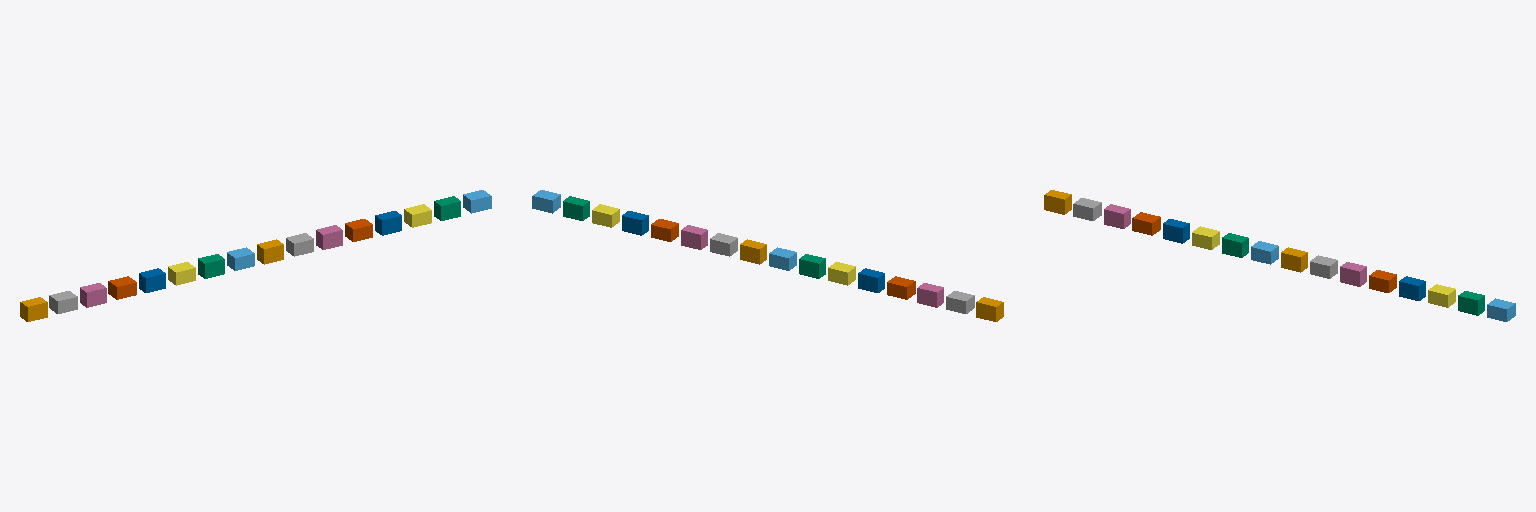
URDF robot description (snake_v210623):
<?xml version="1.0"?>

<robot name="snake_v210623">

    <link name="base_link">
    </link>

    <joint name="bl_joint" type="fixed">
        <parent link="base_link"/>
        <child link="head"/>
    </joint>

    <link name="head">
        <inertial>
            <mass value="0.07"/>
            <inertia ixx="11.5E-3" ixy="0.0E-3" ixz="0.0E-3" iyy="17.4E-3" iyz="0.0E-3" izz="19.4E-3"/>
        </inertial>
        <visual>
            <origin xyz="0.0 0.0 0.0" rpy="0.0 0.0 0.0"/>
            <geometry>
                <box size="0.0465 0.034 0.0285"/>
            </geometry>
        </visual>

        <collision>
            <origin xyz="0.0 0.0 0.0" rpy="0.0 0.0 0.0"/>
            <geometry>
                <box size="0.0465 0.034 0.0285"/>
            </geometry>
        </collision>
    </link> 

    <joint name="joint1" type="revolute">
        <parent link="head"/>
        <child link="body1"/>
        <origin xyz="-0.012 0.0 0.0" rpy="0.0 0.0 0.0"/>
        <axis xyz="0 1 0"/>
        <limit lower="-1.57075" upper="1.57075" effort="0.0" velocity="0.0"/>
    </joint>

    <link name="body1">
        <inertial>
            <origin xyz="-0.0565 0.0 0.0" rpy="0.0 0.0 0.0"/>
            <mass value="0.07"/>
            <inertia ixx="11.5E-3" ixy="0.0E-3" ixz="0.0E-3" iyy="17.4E-3" iyz="0.0E-3" izz="19.4E-3"/>
        </inertial>
        <visual>
            <origin xyz="-0.0565 0.0 0.0" rpy="0.0 0.0 0.0"/>
            <geometry>
                <box size="0.0465 0.0285 0.034"/>
            </geometry>
        </visual>

        <collision>
            <origin xyz="-0.0565 0.0 0.0" rpy="0.0 0.0 0.0"/>
            <geometry>
                <box size="0.0465 0.0285 0.034"/>
            </geometry>
        </collision>
    </link> 

    <joint name="joint2" type="revolute">
        <parent link="body1"/>
        <child link="body2"/>
        <origin xyz="-0.0685 0.0 0.0" rpy="0.0 0.0 0.0"/>
        <axis xyz="0 0 1"/>
        <limit lower="-1.57075" upper="1.57075" effort="0.0" velocity="0.0"/>
    </joint>

    <link name="body2">
        <inertial>
            <origin xyz="-0.0565 0.0 0.0" rpy="0.0 0.0 0.0"/>
            <mass value="0.07"/>
            <inertia ixx="11.5E-3" ixy="0.0E-3" ixz="0.0E-3" iyy="17.4E-3" iyz="0.0E-3" izz="19.4E-3"/>
        </inertial>
        <visual>
            <origin xyz="-0.0565 0.0 0.0" rpy="0.0 0.0 0.0"/>
            <geometry>
                <box size="0.0465 0.034 0.0285"/>
            </geometry>
        </visual>

        <collision>
            <origin xyz="-0.0565 0.0 0.0" rpy="0.0 0.0 0.0"/>
            <geometry>
                <box size="0.0465 0.034 0.0285"/>
            </geometry>
        </collision>
    </link> 

    <joint name="joint3" type="revolute">
        <parent link="body2"/>
        <child link="body3"/>
        <origin xyz="-0.0685 0.0 0.0" rpy="0.0 0.0 0.0"/>
        <axis xyz="0 1 0"/>
        <limit lower="-1.57075" upper="1.57075" effort="0.0" velocity="0.0"/>
    </joint>

    <link name="body3">
        <inertial>
            <origin xyz="-0.0565 0.0 0.0" rpy="0.0 0.0 0.0"/>
            <mass value="0.07"/>
            <inertia ixx="11.5E-3" ixy="0.0E-3" ixz="0.0E-3" iyy="17.4E-3" iyz="0.0E-3" izz="19.4E-3"/>
        </inertial>
        <visual>
            <origin xyz="-0.0565 0.0 0.0" rpy="0.0 0.0 0.0"/>
            <geometry>
                <box size="0.0465 0.0285 0.034"/>
            </geometry>
        </visual>

        <collision>
            <origin xyz="-0.0565 0.0 0.0" rpy="0.0 0.0 0.0"/>
            <geometry>
                <box size="0.0465 0.0285 0.034"/>
            </geometry>
        </collision>
    </link> 

    <joint name="joint4" type="revolute">
        <parent link="body3"/>
        <child link="body4"/>
        <origin xyz="-0.0685 0.0 0.0" rpy="0.0 0.0 0.0"/>
        <axis xyz="0 0 1"/>
        <limit lower="-1.57075" upper="1.57075" effort="0.0" velocity="0.0"/>
    </joint>

    <link name="body4">
        <inertial>
            <origin xyz="-0.0565 0.0 0.0" rpy="0.0 0.0 0.0"/>
            <mass value="0.07"/>
            <inertia ixx="11.5E-3" ixy="0.0E-3" ixz="0.0E-3" iyy="17.4E-3" iyz="0.0E-3" izz="19.4E-3"/>
        </inertial>
        <visual>
            <origin xyz="-0.0565 0.0 0.0" rpy="0.0 0.0 0.0"/>
            <geometry>
                <box size="0.0465 0.034 0.0285"/>
            </geometry>
        </visual>

        <collision>
            <origin xyz="-0.0565 0.0 0.0" rpy="0.0 0.0 0.0"/>
            <geometry>
                <box size="0.0465 0.034 0.0285"/>
            </geometry>
        </collision>
    </link> 

    <joint name="joint5" type="revolute">
        <parent link="body4"/>
        <child link="body5"/>
        <origin xyz="-0.0685 0.0 0.0" rpy="0.0 0.0 0.0"/>
        <axis xyz="0 1 0"/>
        <limit lower="-1.57075" upper="1.57075" effort="0.0" velocity="0.0"/>
    </joint>

    <link name="body5">
        <inertial>
            <origin xyz="-0.0565 0.0 0.0" rpy="0.0 0.0 0.0"/>
            <mass value="0.07"/>
            <inertia ixx="11.5E-3" ixy="0.0E-3" ixz="0.0E-3" iyy="17.4E-3" iyz="0.0E-3" izz="19.4E-3"/>
        </inertial>
        <visual>
            <origin xyz="-0.0565 0.0 0.0" rpy="0.0 0.0 0.0"/>
            <geometry>
                <box size="0.0465 0.0285 0.034"/>
            </geometry>
        </visual>

        <collision>
            <origin xyz="-0.0565 0.0 0.0" rpy="0.0 0.0 0.0"/>
            <geometry>
                <box size="0.0465 0.0285 0.034"/>
            </geometry>
        </collision>
    </link> 

    <joint name="joint6" type="revolute">
        <parent link="body5"/>
        <child link="body6"/>
        <origin xyz="-0.0685 0.0 0.0" rpy="0.0 0.0 0.0"/>
        <axis xyz="0 0 1"/>
        <limit lower="-1.57075" upper="1.57075" effort="0.0" velocity="0.0"/>
    </joint>

    <link name="body6">
        <inertial>
            <origin xyz="-0.0565 0.0 0.0" rpy="0.0 0.0 0.0"/>
            <mass value="0.07"/>
            <inertia ixx="11.5E-3" ixy="0.0E-3" ixz="0.0E-3" iyy="17.4E-3" iyz="0.0E-3" izz="19.4E-3"/>
        </inertial>
        <visual>
            <origin xyz="-0.0565 0.0 0.0" rpy="0.0 0.0 0.0"/>
            <geometry>
                <box size="0.0465 0.034 0.0285"/>
            </geometry>
        </visual>

        <collision>
            <origin xyz="-0.0565 0.0 0.0" rpy="0.0 0.0 0.0"/>
            <geometry>
                <box size="0.0465 0.034 0.0285"/>
            </geometry>
        </collision>
    </link>

    <joint name="joint7" type="revolute">
        <parent link="body6"/>
        <child link="body7"/>
        <origin xyz="-0.0685 0.0 0.0" rpy="0.0 0.0 0.0"/>
        <axis xyz="0 1 0"/>
        <limit lower="-1.57075" upper="1.57075" effort="0.0" velocity="0.0"/>
    </joint>

    <link name="body7">
        <inertial>
            <origin xyz="-0.0565 0.0 0.0" rpy="0.0 0.0 0.0"/>
            <mass value="0.07"/>
            <inertia ixx="11.5E-3" ixy="0.0E-3" ixz="0.0E-3" iyy="17.4E-3" iyz="0.0E-3" izz="19.4E-3"/>
        </inertial>
        <visual>
            <origin xyz="-0.0565 0.0 0.0" rpy="0.0 0.0 0.0"/>
            <geometry>
                <box size="0.0465 0.0285 0.034"/>
            </geometry>
        </visual>

        <collision>
            <origin xyz="-0.0565 0.0 0.0" rpy="0.0 0.0 0.0"/>
            <geometry>
                <box size="0.0465 0.0285 0.034"/>
            </geometry>
        </collision>
    </link>

    <joint name="joint8" type="revolute">
        <parent link="body7"/>
        <child link="body8"/>
        <origin xyz="-0.0685 0.0 0.0" rpy="0.0 0.0 0.0"/>
        <axis xyz="0 0 1"/>
        <limit lower="-1.57075" upper="1.57075" effort="0.0" velocity="0.0"/>
    </joint>

    <link name="body8">
        <inertial>
            <origin xyz="-0.0565 0.0 0.0" rpy="0.0 0.0 0.0"/>
            <mass value="0.07"/>
            <inertia ixx="11.5E-3" ixy="0.0E-3" ixz="0.0E-3" iyy="17.4E-3" iyz="0.0E-3" izz="19.4E-3"/>
        </inertial>
        <visual>
            <origin xyz="-0.0565 0.0 0.0" rpy="0.0 0.0 0.0"/>
            <geometry>
                <box size="0.0465 0.034 0.0285"/>
            </geometry>
        </visual>

        <collision>
            <origin xyz="-0.0565 0.0 0.0" rpy="0.0 0.0 0.0"/>
            <geometry>
                <box size="0.0465 0.034 0.0285"/>
            </geometry>
        </collision>
    </link>
    
    <joint name="joint9" type="revolute">
        <parent link="body8"/>
        <child link="body9"/>
        <origin xyz="-0.0685 0.0 0.0" rpy="0.0 0.0 0.0"/>
        <axis xyz="0 1 0"/>
        <limit lower="-1.57075" upper="1.57075" effort="0.0" velocity="0.0"/>
    </joint>

    <link name="body9">
        <inertial>
            <origin xyz="-0.0565 0.0 0.0" rpy="0.0 0.0 0.0"/>
            <mass value="0.07"/>
            <inertia ixx="11.5E-3" ixy="0.0E-3" ixz="0.0E-3" iyy="17.4E-3" iyz="0.0E-3" izz="19.4E-3"/>
        </inertial>
        <visual>
            <origin xyz="-0.0565 0.0 0.0" rpy="0.0 0.0 0.0"/>
            <geometry>
                <box size="0.0465 0.0285 0.034"/>
            </geometry>
        </visual>

        <collision>
            <origin xyz="-0.0565 0.0 0.0" rpy="0.0 0.0 0.0"/>
            <geometry>
                <box size="0.0465 0.0285 0.034"/>
            </geometry>
        </collision>
    </link>

    <joint name="joint10" type="revolute">
        <parent link="body9"/>
        <child link="body10"/>
        <origin xyz="-0.0685 0.0 0.0" rpy="0.0 0.0 0.0"/>
        <axis xyz="0 0 1"/>
        <limit lower="-1.57075" upper="1.57075" effort="0.0" velocity="0.0"/>
    </joint>

    <link name="body10">
        <inertial>
            <origin xyz="-0.0565 0.0 0.0" rpy="0.0 0.0 0.0"/>
            <mass value="0.07"/>
            <inertia ixx="11.5E-3" ixy="0.0E-3" ixz="0.0E-3" iyy="17.4E-3" iyz="0.0E-3" izz="19.4E-3"/>
        </inertial>
        <visual>
            <origin xyz="-0.0565 0.0 0.0" rpy="0.0 0.0 0.0"/>
            <geometry>
                <box size="0.0465 0.034 0.0285"/>
            </geometry>
        </visual>

        <collision>
            <origin xyz="-0.0565 0.0 0.0" rpy="0.0 0.0 0.0"/>
            <geometry>
                <box size="0.0465 0.034 0.0285"/>
            </geometry>
        </collision>
    </link>

    <joint name="joint11" type="revolute">
        <parent link="body10"/>
        <child link="body11"/>
        <origin xyz="-0.0685 0.0 0.0" rpy="0.0 0.0 0.0"/>
        <axis xyz="0 1 0"/>
        <limit lower="-1.57075" upper="1.57075" effort="0.0" velocity="0.0"/>
    </joint>

    <link name="body11">
        <inertial>
            <origin xyz="-0.0565 0.0 0.0" rpy="0.0 0.0 0.0"/>
            <mass value="0.07"/>
            <inertia ixx="11.5E-3" ixy="0.0E-3" ixz="0.0E-3" iyy="17.4E-3" iyz="0.0E-3" izz="19.4E-3"/>
        </inertial>
        <visual>
            <origin xyz="-0.0565 0.0 0.0" rpy="0.0 0.0 0.0"/>
            <geometry>
                <box size="0.0465 0.0285 0.034"/>
            </geometry>
        </visual>

        <collision>
            <origin xyz="-0.0565 0.0 0.0" rpy="0.0 0.0 0.0"/>
            <geometry>
                <box size="0.0465 0.0285 0.034"/>
            </geometry>
        </collision>
    </link>

    <joint name="joint12" type="revolute">
        <parent link="body11"/>
        <child link="body12"/>
        <origin xyz="-0.0685 0.0 0.0" rpy="0.0 0.0 0.0"/>
        <axis xyz="0 0 1"/>
        <limit lower="-1.57075" upper="1.57075" effort="0.0" velocity="0.0"/>
    </joint>

    <link name="body12">
        <inertial>
            <origin xyz="-0.0565 0.0 0.0" rpy="0.0 0.0 0.0"/>
            <mass value="0.07"/>
            <inertia ixx="11.5E-3" ixy="0.0E-3" ixz="0.0E-3" iyy="17.4E-3" iyz="0.0E-3" izz="19.4E-3"/>
        </inertial>
        <visual>
            <origin xyz="-0.0565 0.0 0.0" rpy="0.0 0.0 0.0"/>
            <geometry>
                <box size="0.0465 0.034 0.0285"/>
            </geometry>
        </visual>

        <collision>
            <origin xyz="-0.0565 0.0 0.0" rpy="0.0 0.0 0.0"/>
            <geometry>
                <box size="0.0465 0.034 0.0285"/>
            </geometry>
        </collision>
    </link>

    <joint name="joint13" type="revolute">
        <parent link="body12"/>
        <child link="body13"/>
        <origin xyz="-0.0685 0.0 0.0" rpy="0.0 0.0 0.0"/>
        <axis xyz="0 1 0"/>
        <limit lower="-1.57075" upper="1.57075" effort="0.0" velocity="0.0"/>
    </joint>

    <link name="body13">
        <inertial>
            <origin xyz="-0.0565 0.0 0.0" rpy="0.0 0.0 0.0"/>
            <mass value="0.07"/>
            <inertia ixx="11.5E-3" ixy="0.0E-3" ixz="0.0E-3" iyy="17.4E-3" iyz="0.0E-3" izz="19.4E-3"/>
        </inertial>
        <visual>
            <origin xyz="-0.0565 0.0 0.0" rpy="0.0 0.0 0.0"/>
            <geometry>
                <box size="0.0465 0.0285 0.034"/>
            </geometry>
        </visual>

        <collision>
            <origin xyz="-0.0565 0.0 0.0" rpy="0.0 0.0 0.0"/>
            <geometry>
                <box size="0.0465 0.0285 0.034"/>
            </geometry>
        </collision>
    </link>

    <joint name="joint14" type="revolute">
        <parent link="body13"/>
        <child link="body14"/>
        <origin xyz="-0.0685 0.0 0.0" rpy="0.0 0.0 0.0"/>
        <axis xyz="0 0 1"/>
        <limit lower="-1.57075" upper="1.57075" effort="0.0" velocity="0.0"/>
    </joint>

    <link name="body14">
        <inertial>
            <origin xyz="-0.0565 0.0 0.0" rpy="0.0 0.0 0.0"/>
            <mass value="0.07"/>
            <inertia ixx="11.5E-3" ixy="0.0E-3" ixz="0.0E-3" iyy="17.4E-3" iyz="0.0E-3" izz="19.4E-3"/>
        </inertial>
        <visual>
            <origin xyz="-0.0565 0.0 0.0" rpy="0.0 0.0 0.0"/>
            <geometry>
                <box size="0.0465 0.034 0.0285"/>
            </geometry>
        </visual>

        <collision>
            <origin xyz="-0.0565 0.0 0.0" rpy="0.0 0.0 0.0"/>
            <geometry>
                <box size="0.0465 0.034 0.0285"/>
            </geometry>
        </collision>
    </link>

    <joint name="joint15" type="revolute">
        <parent link="body14"/>
        <child link="tail"/>
        <origin xyz="-0.0685 0.0 0.0" rpy="0.0 0.0 0.0"/>
        <axis xyz="0 1 0"/>
        <limit lower="-1.57075" upper="1.57075" effort="0.0" velocity="0.0"/>
    </joint>

    <link name="tail">
        <inertial>
            <origin xyz="-0.0565 0.0 0.0" rpy="0.0 0.0 0.0"/>
            <mass value="0.07"/>
            <inertia ixx="11.5E-3" ixy="0.0E-3" ixz="0.0E-3" iyy="17.4E-3" iyz="0.0E-3" izz="19.4E-3"/>
        </inertial>
        <visual>
            <origin xyz="-0.0565 0.0 0.0" rpy="0.0 0.0 0.0"/>
            <geometry>
                <box size="0.0465 0.0285 0.034"/>
            </geometry>
        </visual>

        <collision>
            <origin xyz="-0.0565 0.0 0.0" rpy="0.0 0.0 0.0"/>
            <geometry>
                <box size="0.0465 0.0285 0.034"/>
            </geometry>
        </collision>
    </link>

</robot>

--- What the picture shows (computed from the rendered views, not written in the file) ---
The picture shows the robot from 3 angles, left to right: view 1: azimuth 30°, elevation 25°; view 2: azimuth 150°, elevation 25°; view 3: azimuth 330°, elevation 25°; orthographic projection.
Robot: snake_v210623 — 17 links, 16 joints (15 revolute, 1 fixed); root link base_link; default pose: every joint at zero.
Links seen in each view (by area): view 1: tail, body5, body9, body1, body3, body7, body11, body13, head, body14, body12, body10 (+3 smaller); view 2: tail, body5, body9, body1, body3, body7, body11, body13, head, body14, body12, body10 (+3 smaller); view 3: tail, body5, body9, body1, body3, body7, body11, body13, head, body14, body12, body10 (+3 smaller).
Boxes of the visible links, x1=… form: tail: x1=20, y1=297, x2=47, y2=321; body5: x1=316, y1=225, x2=342, y2=249; body9: x1=198, y1=254, x2=224, y2=278; body1: x1=434, y1=196, x2=460, y2=220; body3: x1=375, y1=211, x2=401, y2=235; body7: x1=257, y1=239, x2=283, y2=264; body11: x1=139, y1=268, x2=165, y2=292; body13: x1=80, y1=283, x2=106, y2=307; head: x1=463, y1=190, x2=491, y2=213; body14: x1=49, y1=291, x2=77, y2=313; body12: x1=108, y1=276, x2=136, y2=299; body10: x1=168, y1=262, x2=195, y2=285; tail: x1=976, y1=297, x2=1003, y2=321; body5: x1=681, y1=225, x2=707, y2=249; body9: x1=799, y1=254, x2=825, y2=278; body1: x1=563, y1=196, x2=589, y2=220; body3: x1=622, y1=211, x2=648, y2=235; body7: x1=740, y1=239, x2=766, y2=264; body11: x1=858, y1=268, x2=884, y2=292; body13: x1=917, y1=283, x2=943, y2=307; head: x1=532, y1=190, x2=560, y2=213; body14: x1=946, y1=291, x2=974, y2=313; body12: x1=887, y1=276, x2=915, y2=299; body10: x1=828, y1=262, x2=855, y2=285; tail: x1=1044, y1=190, x2=1071, y2=214; body5: x1=1340, y1=262, x2=1366, y2=286; body9: x1=1222, y1=233, x2=1248, y2=257; body1: x1=1458, y1=291, x2=1484, y2=315; body3: x1=1399, y1=276, x2=1425, y2=300; body7: x1=1281, y1=247, x2=1307, y2=272; body11: x1=1163, y1=219, x2=1189, y2=243; body13: x1=1104, y1=204, x2=1130, y2=228; head: x1=1487, y1=298, x2=1515, y2=321; body14: x1=1073, y1=198, x2=1101, y2=220; body12: x1=1132, y1=212, x2=1160, y2=235; body10: x1=1192, y1=226, x2=1219, y2=249.
Size in the robot's own frame: 1.07 by 0.034 by 0.034 metres.
Geometry: primitives only (box / cylinder / sphere), no mesh files.
